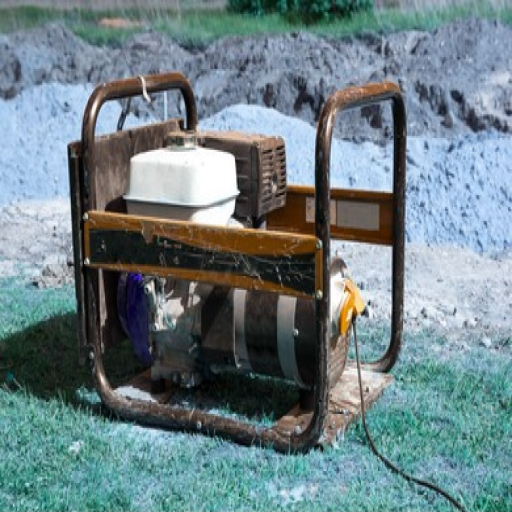portable_generator: (78, 70, 407, 455)
